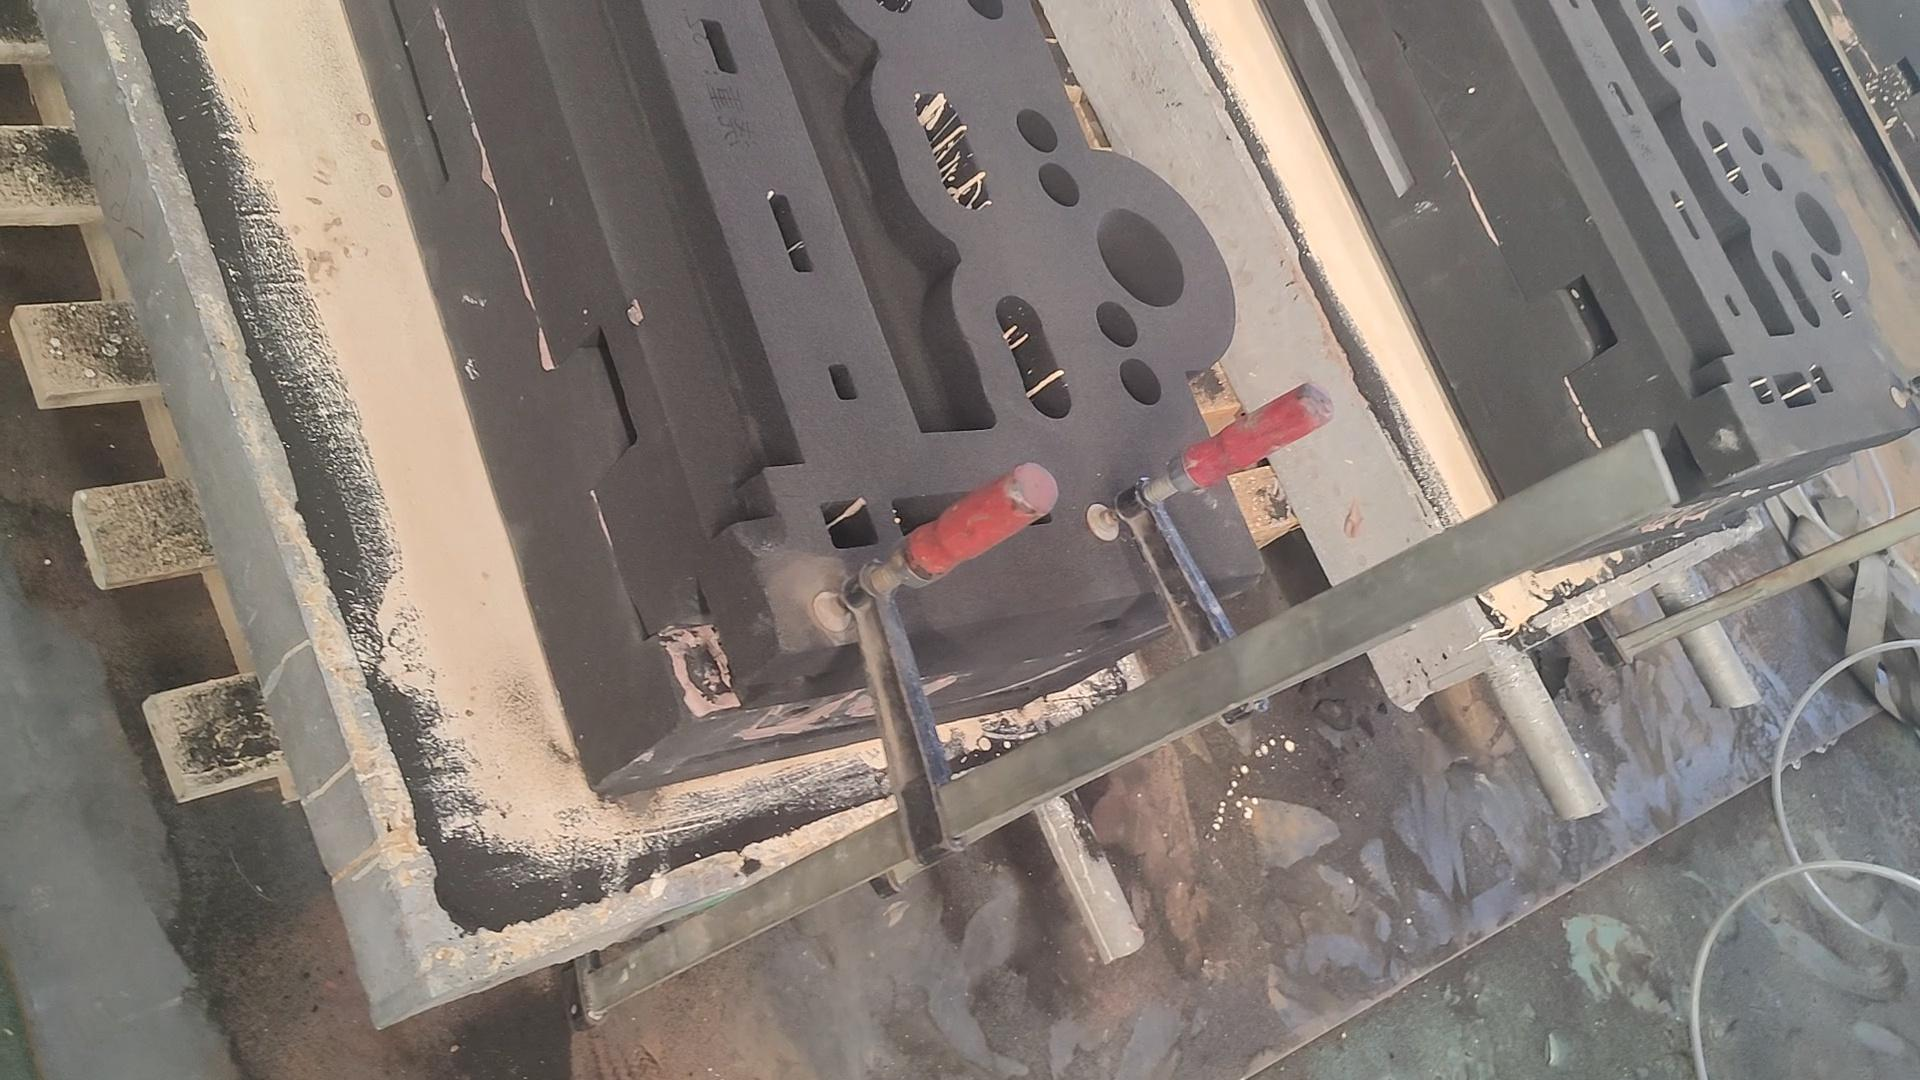pouring hole: (1096, 207, 1184, 307), (1795, 189, 1842, 255)
